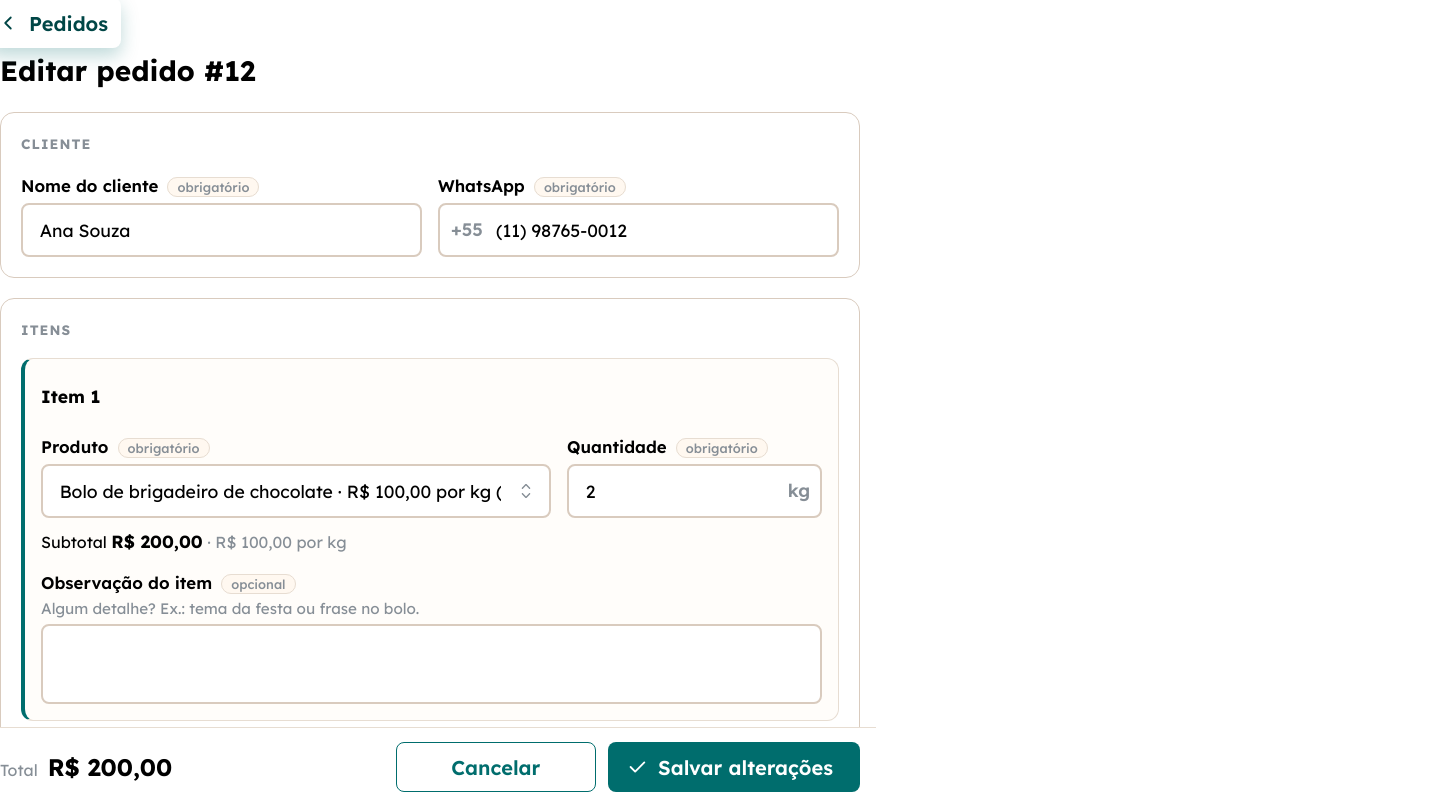
Edição de pedido (ZAP-91, RF14, RN21) › cancelar volta para os detalhes do pedido sem salvar
The image size is (1440, 810).
Click the button "Cancelar".
click(496, 767)  # box [396,742,596,792]
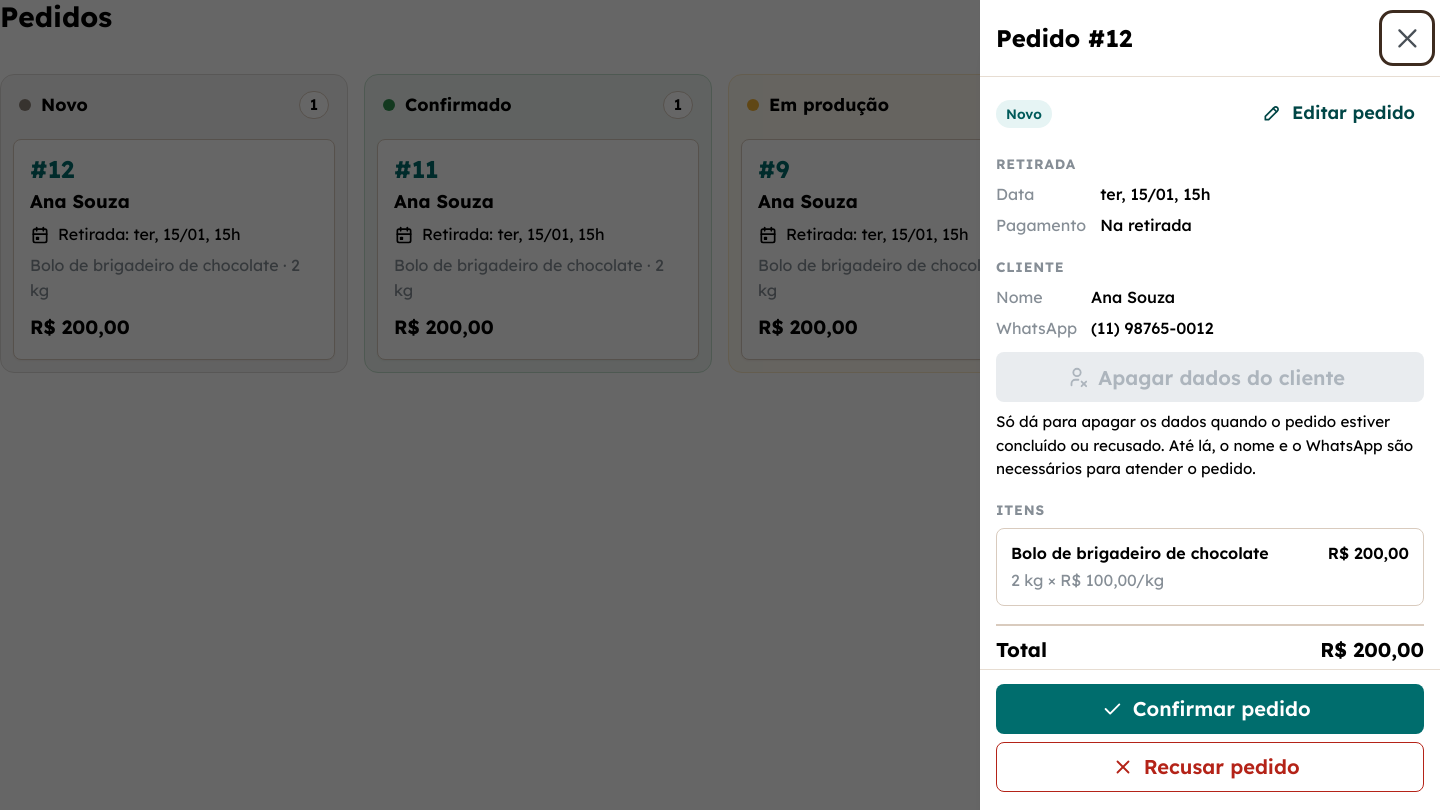
Result: the dialog "Pedido #12" is shown at [980,0,1439,809]
